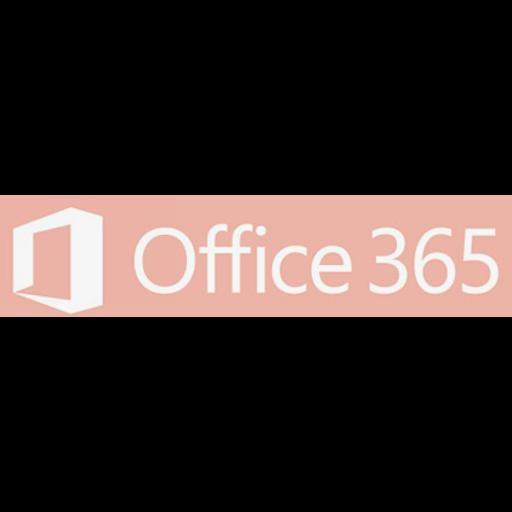Outlook: (0, 195, 512, 317)
